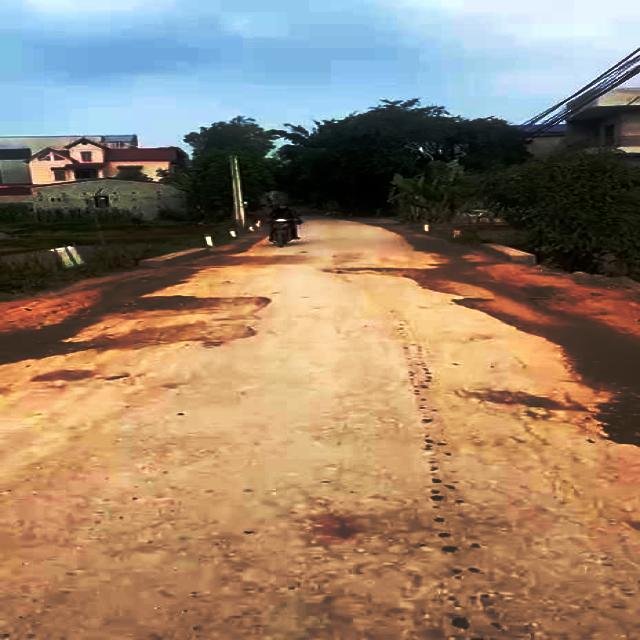pothole: (79, 316, 273, 355), (123, 291, 280, 318)
